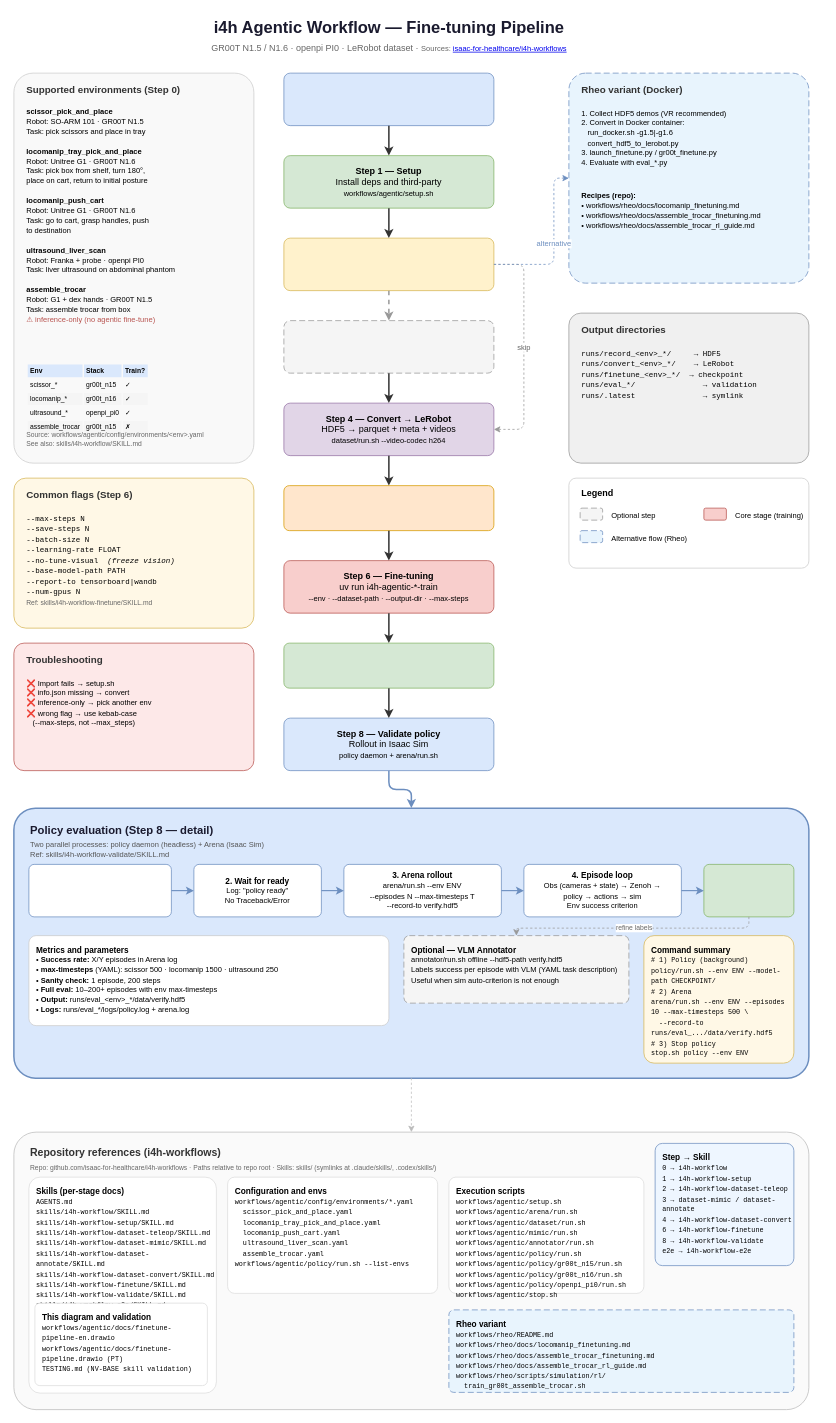
This 836x1423 diagram has some shape labels left out. The shapes that lost their labels are listed below. From the top down, each one's centre as x and y in pixels, then its label:
At pixel 388 99: "Step 0 Choose environment workflows/agentic/policy/run.sh --list-envs".
At pixel 388 264: "Step 2 — Record demos Teleop → HDF5 arena/run.sh --env ENV --teleop --record".
At pixel 388 346: "Step 3 — Optional Mimic (expand HDF5) Annotate (VLM / filter)".
At pixel 388 508: "Step 5 — Preflight meta/info.json · nvidia-smi · --list-envs".
At pixel 388 665: "Step 7 — Verify checkpoint safetensors · experiment_cfg/ · processor/".
At pixel 99 890: "1. Policy daemon policy/run.sh --env ENV --model-path checkpoint-NNNN/".
At pixel 748 890: "5. Result Log: run complete: X/Y episodes succeeded → success rate".
